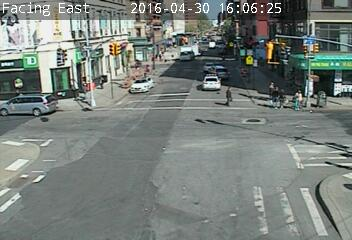neg: (297, 34, 317, 61), (251, 39, 270, 63), (114, 64, 132, 88), (189, 41, 207, 65), (223, 47, 239, 68)
pos: (63, 73, 83, 100), (219, 82, 236, 105), (292, 88, 309, 111), (275, 88, 291, 109)
